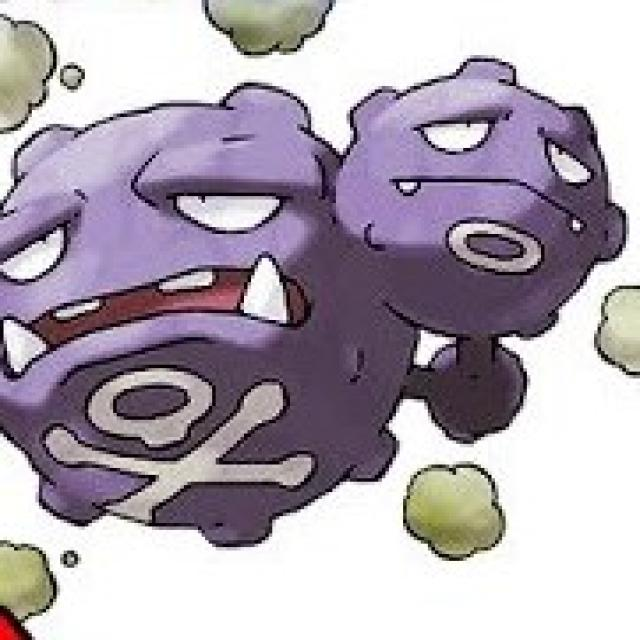Weezing: (0, 62, 627, 540)
